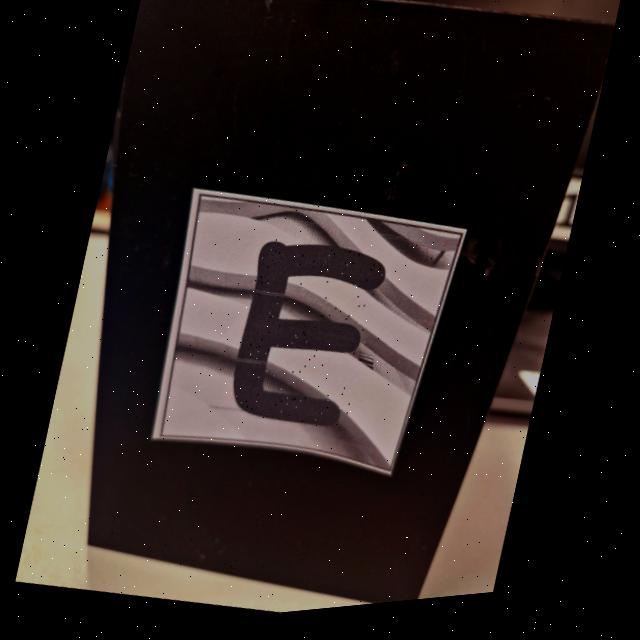E: (234, 247, 384, 432)
